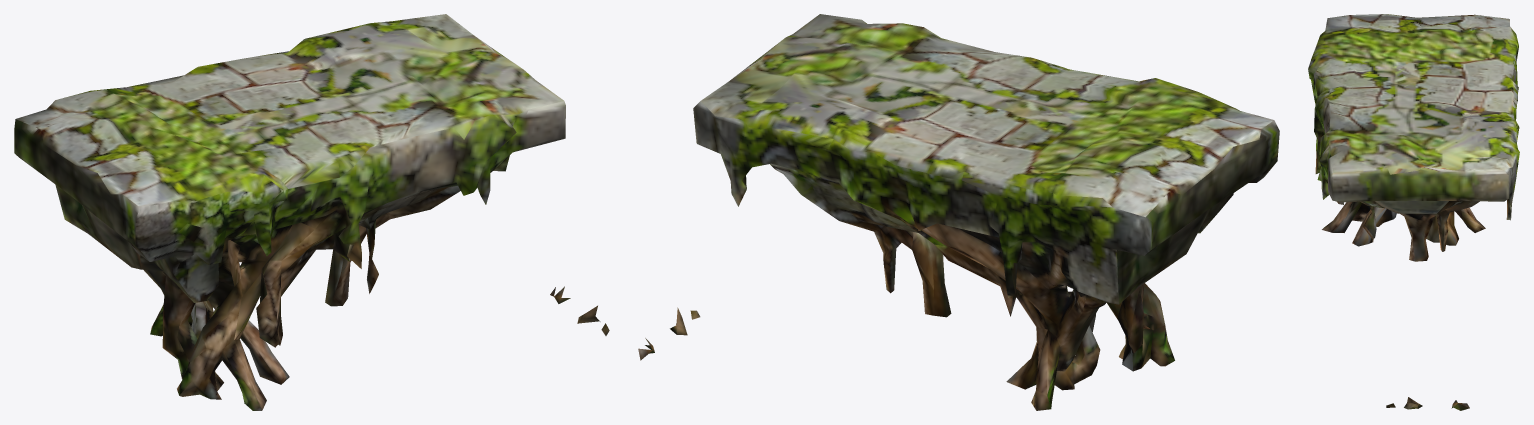
The model's file is F3D_22_BrokenPlatform.fbx.
3 renders of one model, left to right at view 1: azimuth 30°, elevation 25°; view 2: azimuth 150°, elevation 25°; view 3: azimuth 270°, elevation 25°, orthographic. The views are drawn at different scales.
Parts seen in each view (by area): view 1: F3D_22_BrokenPlatform; view 2: F3D_22_BrokenPlatform; view 3: F3D_22_BrokenPlatform.
Part boxes in pixels (bbox=[...]): F3D_22_BrokenPlatform: bbox=[14, 14, 609, 410]; F3D_22_BrokenPlatform: bbox=[638, 14, 1279, 410]; F3D_22_BrokenPlatform: bbox=[1308, 14, 1519, 410].
Size of the model in its own units: 1.85 by 1 by 0.8808.
